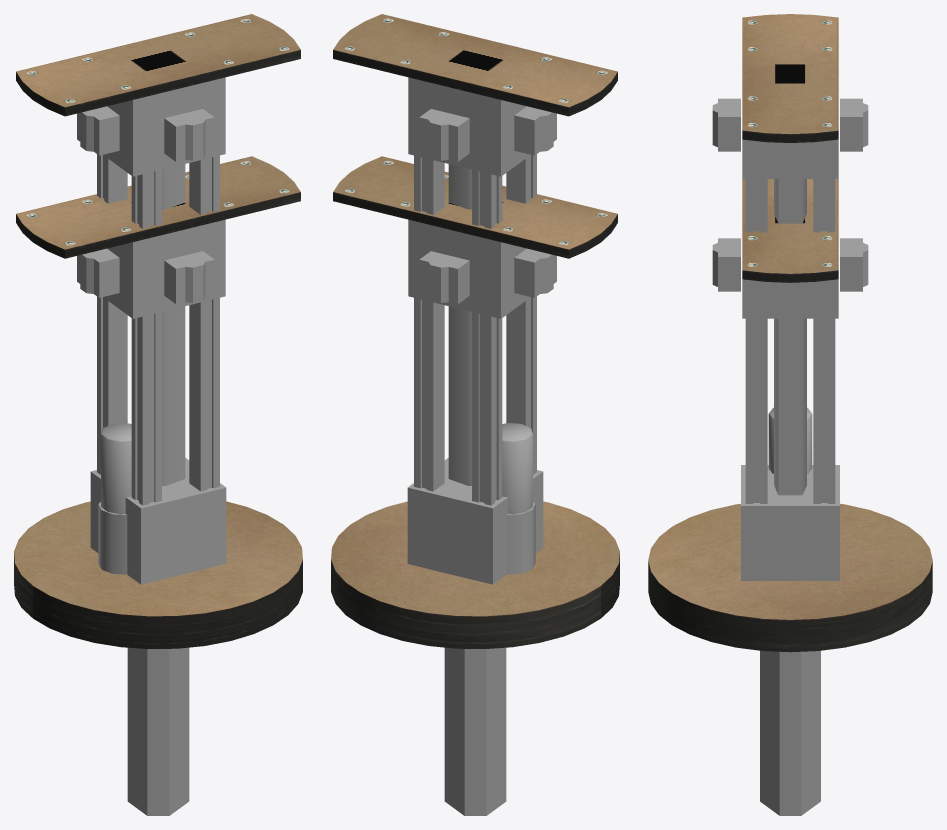
Rendered from Body_ROBOTINO_B.dae.
3 views of the same model, side by side, from view 1: azimuth 30°, elevation 25°; view 2: azimuth 150°, elevation 25°; view 3: azimuth 270°, elevation 25° (orthographic).
Visible parts, largest first — view 1: Body_low_poly; view 2: Body_low_poly; view 3: Body_low_poly.
Boxes of the visible parts, bbox=[...] form: Body_low_poly: bbox=[14, 14, 302, 815]; Body_low_poly: bbox=[331, 14, 619, 815]; Body_low_poly: bbox=[648, 14, 932, 815].
Bounding box in the file's own units: 0.26 × 0.26 × 0.736.
Materials: 2 (1 with a texture image).
